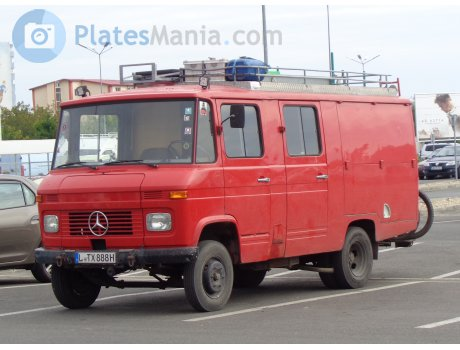License Plates: (77, 248, 113, 259)
